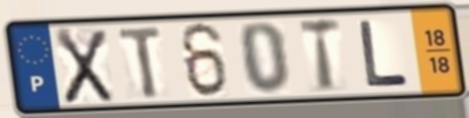0: (236, 19, 295, 97)
6: (179, 20, 231, 101)
L: (355, 18, 413, 90)
T: (116, 23, 166, 102), (296, 15, 344, 95)
X: (52, 26, 116, 106)
